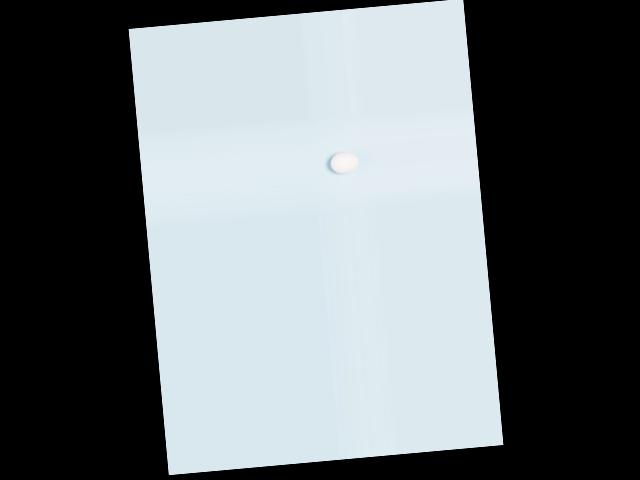egg: (329, 151, 359, 174)
